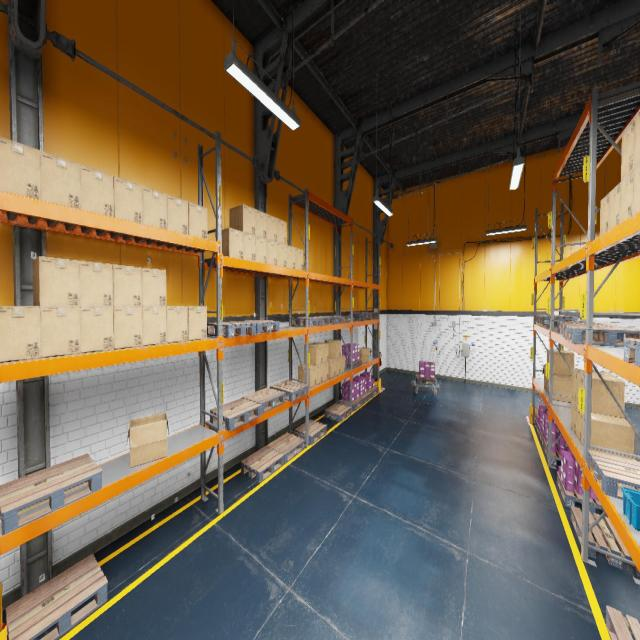box: (0, 136, 41, 200), (582, 412, 634, 460), (32, 256, 80, 307), (126, 412, 168, 468), (40, 151, 80, 209), (0, 306, 41, 362), (577, 373, 625, 418), (40, 307, 80, 357), (80, 164, 114, 217), (80, 307, 114, 353), (79, 261, 113, 306), (572, 369, 615, 404), (114, 176, 142, 224), (112, 264, 142, 306), (114, 307, 142, 349), (142, 186, 167, 230), (142, 307, 167, 345), (142, 268, 166, 306), (621, 117, 635, 181), (167, 194, 188, 235), (216, 228, 243, 259), (230, 204, 256, 235), (188, 201, 208, 239), (620, 169, 634, 223), (167, 306, 188, 342), (547, 350, 574, 376), (188, 306, 207, 341), (609, 181, 621, 230), (552, 374, 572, 402), (546, 374, 571, 395), (600, 192, 610, 236), (298, 364, 316, 387), (304, 343, 322, 365), (243, 232, 256, 262), (633, 164, 640, 215), (634, 111, 640, 169), (312, 342, 328, 363), (324, 339, 340, 358), (256, 209, 266, 239), (267, 214, 277, 242), (256, 236, 266, 263), (267, 240, 277, 266), (277, 242, 287, 268), (576, 405, 582, 444), (278, 218, 286, 244), (330, 357, 340, 376), (287, 245, 295, 268), (571, 400, 576, 436), (296, 248, 304, 270), (328, 358, 336, 378), (360, 347, 369, 363), (316, 364, 322, 384), (323, 362, 328, 382), (542, 364, 546, 384), (341, 355, 345, 373), (544, 368, 546, 391)
pallets: (6, 554, 108, 639), (0, 453, 102, 534), (570, 506, 640, 576), (588, 450, 640, 500), (557, 472, 608, 517), (210, 398, 261, 431), (565, 325, 640, 347), (241, 446, 284, 483), (266, 432, 304, 463), (606, 605, 640, 639), (560, 323, 624, 340), (242, 388, 285, 413), (207, 321, 256, 338), (270, 380, 308, 401), (294, 420, 327, 444), (234, 320, 280, 334), (558, 321, 606, 332), (623, 338, 640, 367), (325, 403, 351, 421), (544, 441, 561, 466), (539, 316, 578, 325), (339, 397, 364, 411), (292, 317, 324, 327), (308, 316, 336, 325), (535, 315, 565, 323), (415, 375, 437, 385), (324, 315, 348, 323), (359, 391, 371, 404), (349, 312, 371, 319), (346, 359, 362, 368), (367, 386, 379, 397), (539, 428, 545, 448), (535, 418, 540, 435), (366, 312, 378, 318)
